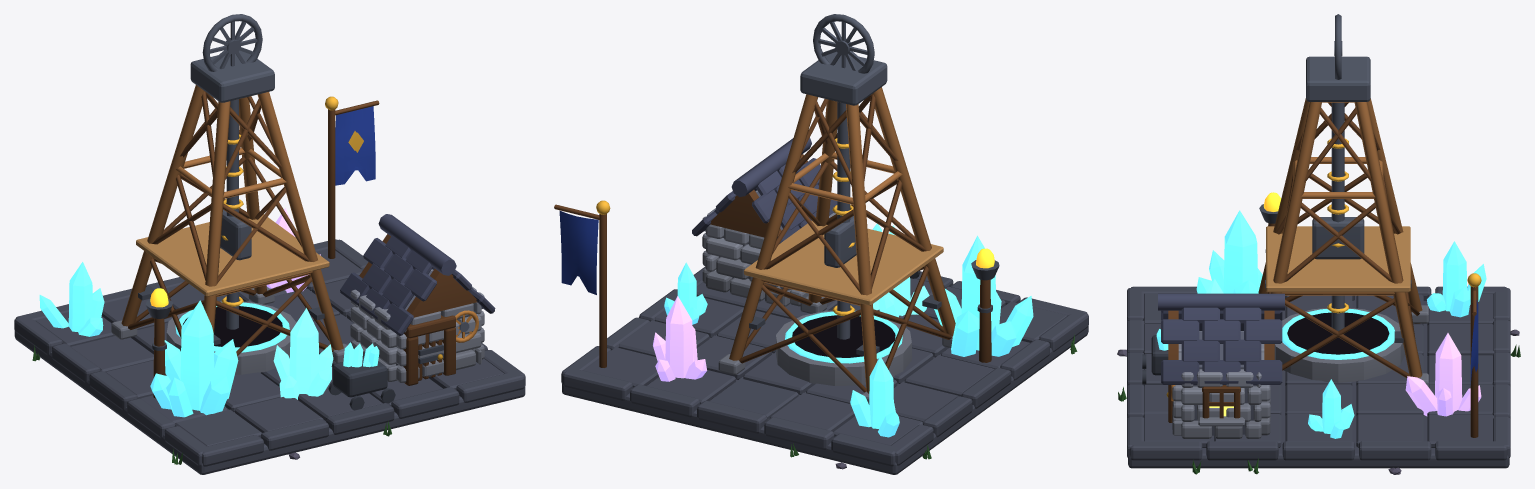
File: crystal_mine.glb
The picture shows the model from 3 angles, left to right: view 1: azimuth 30°, elevation 25°; view 2: azimuth 150°, elevation 25°; view 3: azimuth 270°, elevation 25°; orthographic projection. The views are drawn at different scales.
Parts seen in each view (by area): view 1: t0_stone_dark, t0_wood_dark, t0_wood, t0_crystal, t0_stone, t0_roof_slate, t0_wood_light, t0_iron, t3_crystal_teal, t2_cloth_blue, pulley_t0_spinZ120_iron, t0_dark (+3 smaller); view 2: t0_stone_dark, t0_wood, t0_wood_dark, t0_crystal, t0_stone, t0_wood_light, t0_iron, t0_roof_slate, t0_crystal_violet, t2_cloth_blue, t0_dark, pulley_t0_spinZ120_iron (+5 smaller); view 3: t0_stone_dark, t0_roof_slate, t0_wood, t0_stone, t0_wood_dark, t0_crystal, t0_wood_light, t0_iron, t0_crystal_violet, t0_dark, drill_t0_spinY260_iron, t1_crystal (+4 smaller).
Boxes of the visible parts, left/top/right/bottom form: t0_stone_dark: left=14, top=239, right=525, bottom=474; t0_wood_dark: left=128, top=92, right=477, bottom=385; t0_wood: left=121, top=85, right=343, bottom=350; t0_crystal: left=39, top=262, right=379, bottom=417; t0_stone: left=111, top=269, right=484, bottom=382; t0_roof_slate: left=340, top=214, right=495, bottom=335; t0_wood_light: left=136, top=214, right=329, bottom=296; t0_iron: left=190, top=50, right=443, bottom=410; t3_crystal_teal: left=273, top=308, right=333, bottom=399; t2_cloth_blue: left=335, top=106, right=375, bottom=185; pulley_t0_spinZ120_iron: left=202, top=14, right=262, bottom=71; t0_dark: left=183, top=306, right=282, bottom=347; t0_stone_dark: left=561, top=192, right=1088, bottom=474; t0_wood: left=729, top=87, right=955, bottom=393; t0_wood_dark: left=710, top=94, right=951, bottom=392; t0_crystal: left=785, top=223, right=1033, bottom=437; t0_stone: left=702, top=190, right=952, bottom=404; t0_wood_light: left=744, top=220, right=943, bottom=305; t0_iron: left=800, top=51, right=920, bottom=278; t0_roof_slate: left=692, top=137, right=837, bottom=243; t0_crystal_violet: left=653, top=296, right=706, bottom=381; t2_cloth_blue: left=559, top=211, right=598, bottom=294; t0_dark: left=792, top=315, right=895, bottom=357; pulley_t0_spinZ120_iron: left=813, top=14, right=874, bottom=73; t0_stone_dark: left=1127, top=286, right=1510, bottom=468; t0_roof_slate: left=1158, top=293, right=1284, bottom=384; t0_wood: left=1258, top=98, right=1422, bottom=377; t0_stone: left=1172, top=305, right=1428, bottom=438; t0_wood_dark: left=1168, top=102, right=1419, bottom=422; t0_crystal: left=1156, top=210, right=1486, bottom=359; t0_wood_light: left=1266, top=226, right=1410, bottom=292; t0_iron: left=1142, top=56, right=1370, bottom=384; t0_crystal_violet: left=1405, top=333, right=1481, bottom=416; t0_dark: left=1287, top=312, right=1389, bottom=354; drill_t0_spinY260_iron: left=1331, top=102, right=1344, bottom=334; t1_crystal: left=1308, top=379, right=1354, bottom=438.
Bounding box in the file's own units: 3.21 × 3.3 × 3.11.
